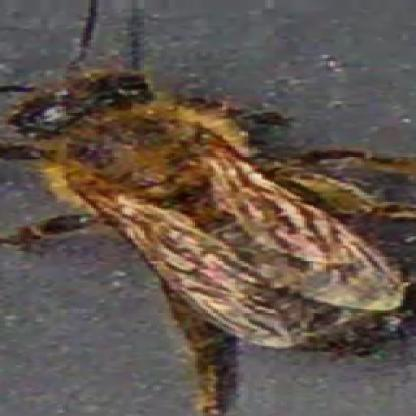bee: (7, 63, 406, 344)
